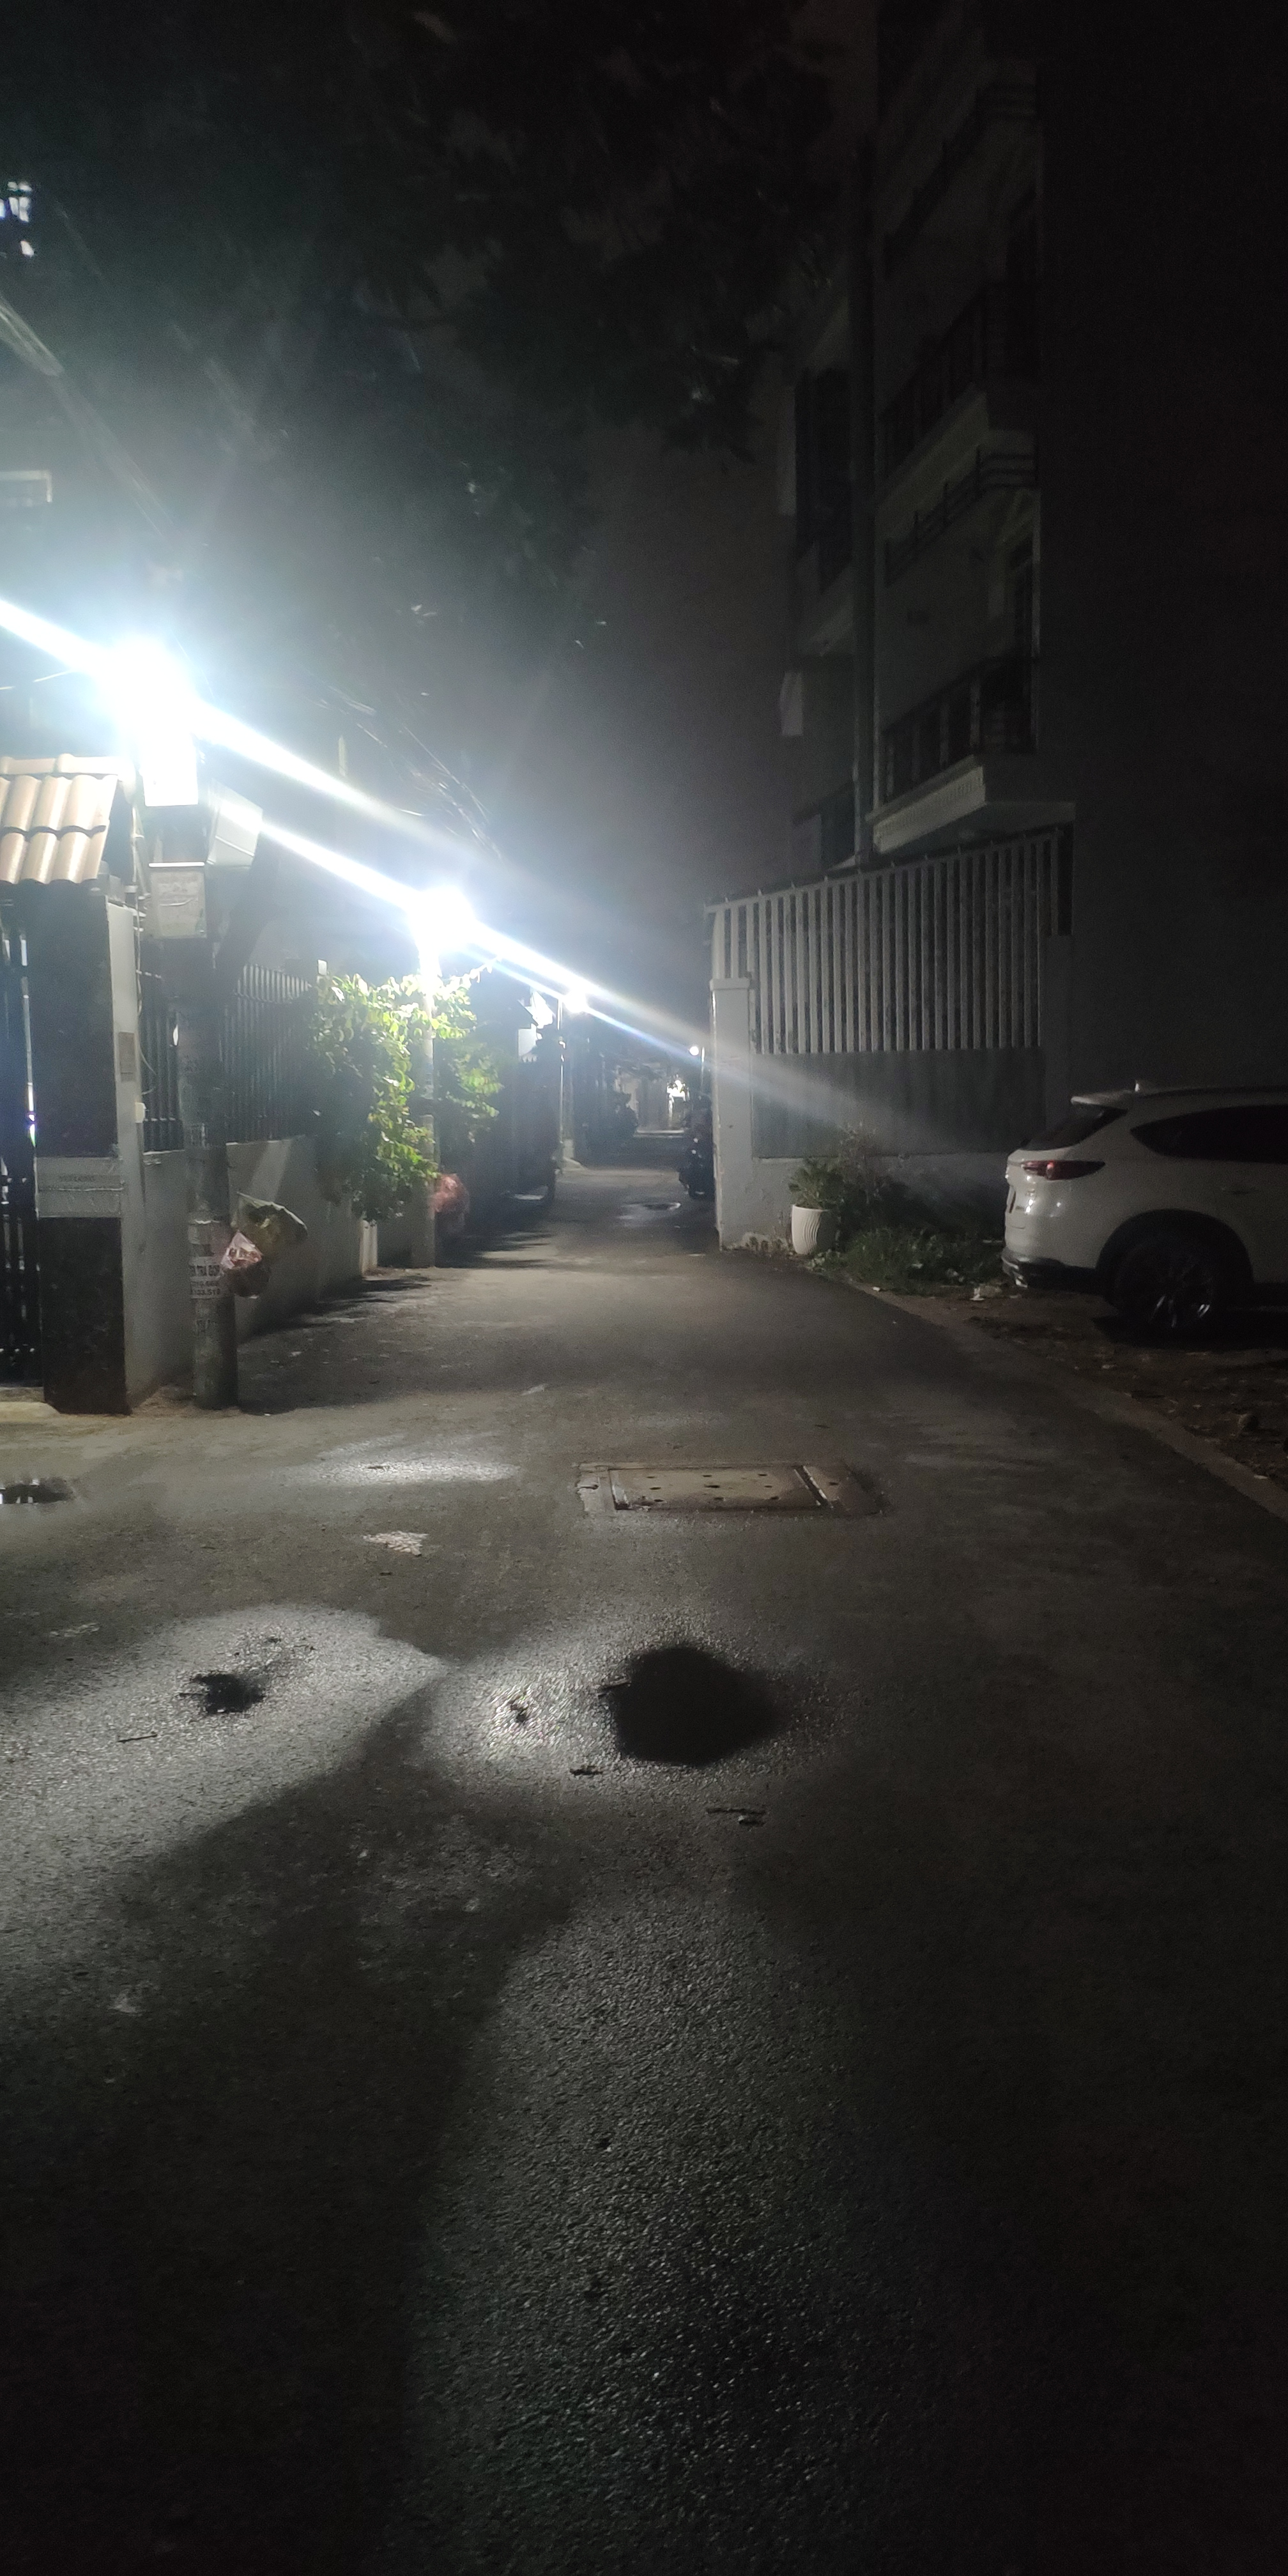hole: (499, 1595, 843, 1802), (151, 1623, 327, 1745), (0, 1474, 84, 1510), (621, 1198, 680, 1212)
